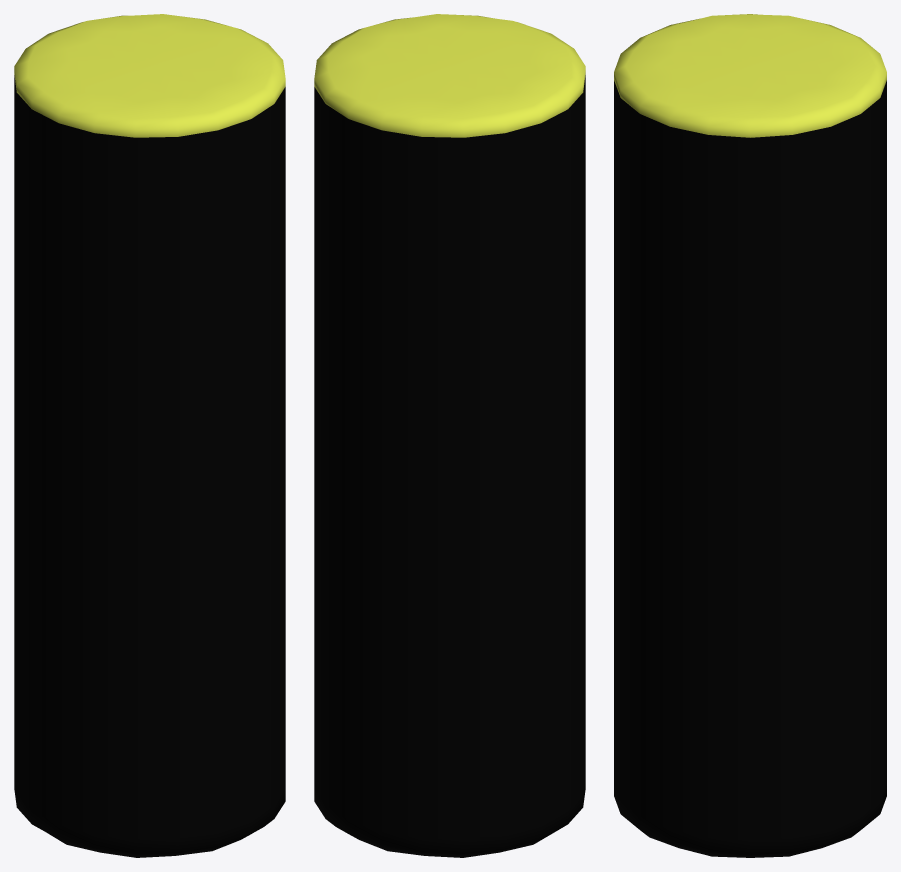
The model's file is BaseBoton.fbx.
3 views of the same model, side by side, from view 1: azimuth 30°, elevation 25°; view 2: azimuth 150°, elevation 25°; view 3: azimuth 270°, elevation 25° (orthographic).
Parts seen in each view (by area): view 1: pCylinder1; view 2: pCylinder1; view 3: pCylinder1.
Part boxes in pixels (x1,y1,x2,y2): pCylinder1: (14, 14, 285, 857); pCylinder1: (314, 14, 585, 857); pCylinder1: (614, 14, 886, 857).
Size of the model in its own units: 0.1851 by 0.5576 by 0.1849.
